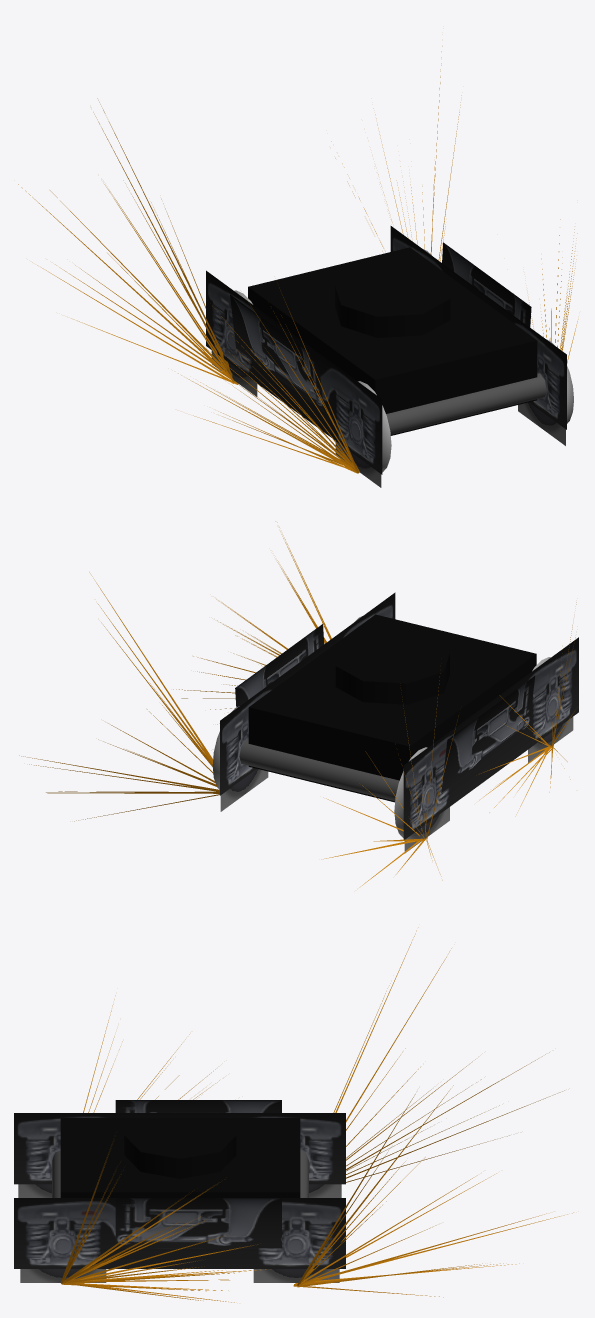
Rendered from K2100_TRACK.glb.
3 renders of one model, top to bottom at view 1: azimuth 30°, elevation 25°; view 2: azimuth 150°, elevation 25°; view 3: azimuth 270°, elevation 25°, orthographic. The views are drawn at different scales.
Visible parts, largest first — view 1: trackbase, Fire1_R_1, Fire0_R_0; view 2: trackbase, Fire1_L_0, Fire1_R_1, Fire0_R_0, Fire0_L_1, Fire0_L_0; view 3: trackbase, Fire1_L_1, Fire0_L_0, Fire0_L_1, Fire1_R_0.
Boxes of the visible parts, bbox=[...] form: trackbase: bbox=[206, 226, 573, 487]; Fire1_R_1: bbox=[18, 102, 238, 384]; Fire0_R_0: bbox=[178, 287, 359, 473]; trackbase: bbox=[212, 592, 578, 853]; Fire1_L_0: bbox=[28, 584, 219, 820]; Fire1_R_1: bbox=[321, 677, 439, 886]; Fire0_R_0: bbox=[479, 697, 558, 814]; Fire0_L_1: bbox=[176, 522, 331, 709]; Fire0_L_0: bbox=[173, 521, 330, 698]; trackbase: bbox=[14, 1100, 345, 1282]; Fire1_L_1: bbox=[293, 1090, 564, 1297]; Fire0_L_0: bbox=[61, 1141, 266, 1302]; Fire0_L_1: bbox=[61, 1144, 265, 1301]; Fire1_R_0: bbox=[333, 936, 564, 1182].
Size of the model in its own units: 10.41 by 6.14 by 13.16.
14 materials, 5 textured.
